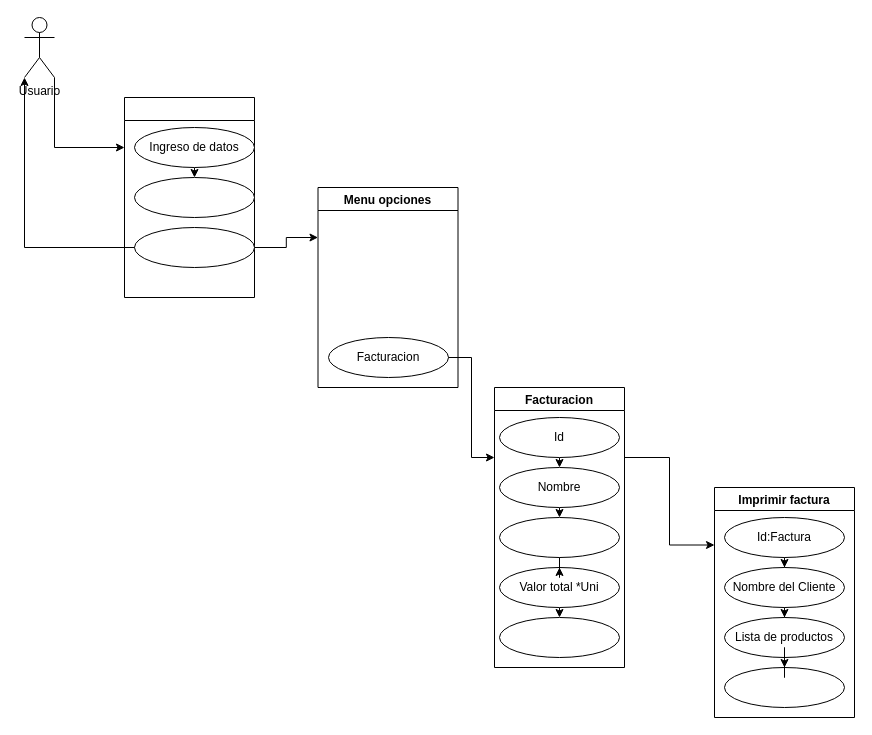
This 872x735 diagram has some shape labels left out. Each missing label, with the box of its shape:
cantidades: (498, 516, 620, 558)
Ingreso al sistema: (134, 226, 254, 268)
Login: (124, 96, 254, 298)
Total a pagar: (724, 666, 844, 708)
Validacion: (134, 176, 254, 218)
Valor total: (498, 616, 620, 658)
